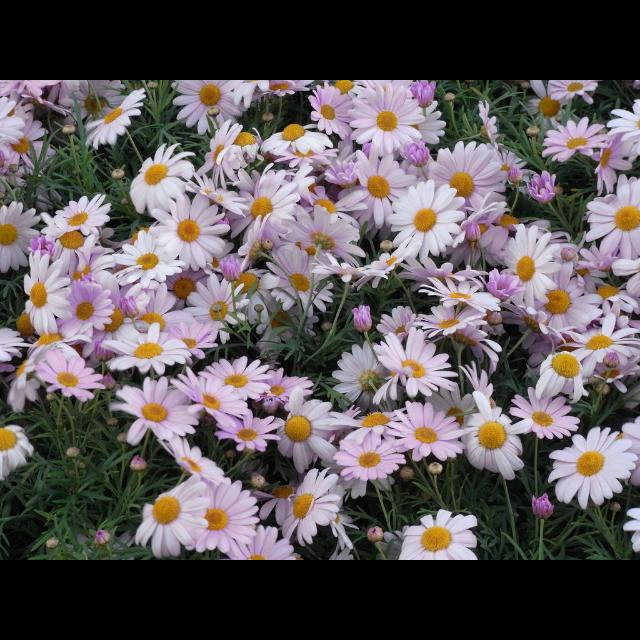Flower: (1, 80, 640, 560), (468, 405, 524, 477), (0, 422, 34, 483)
